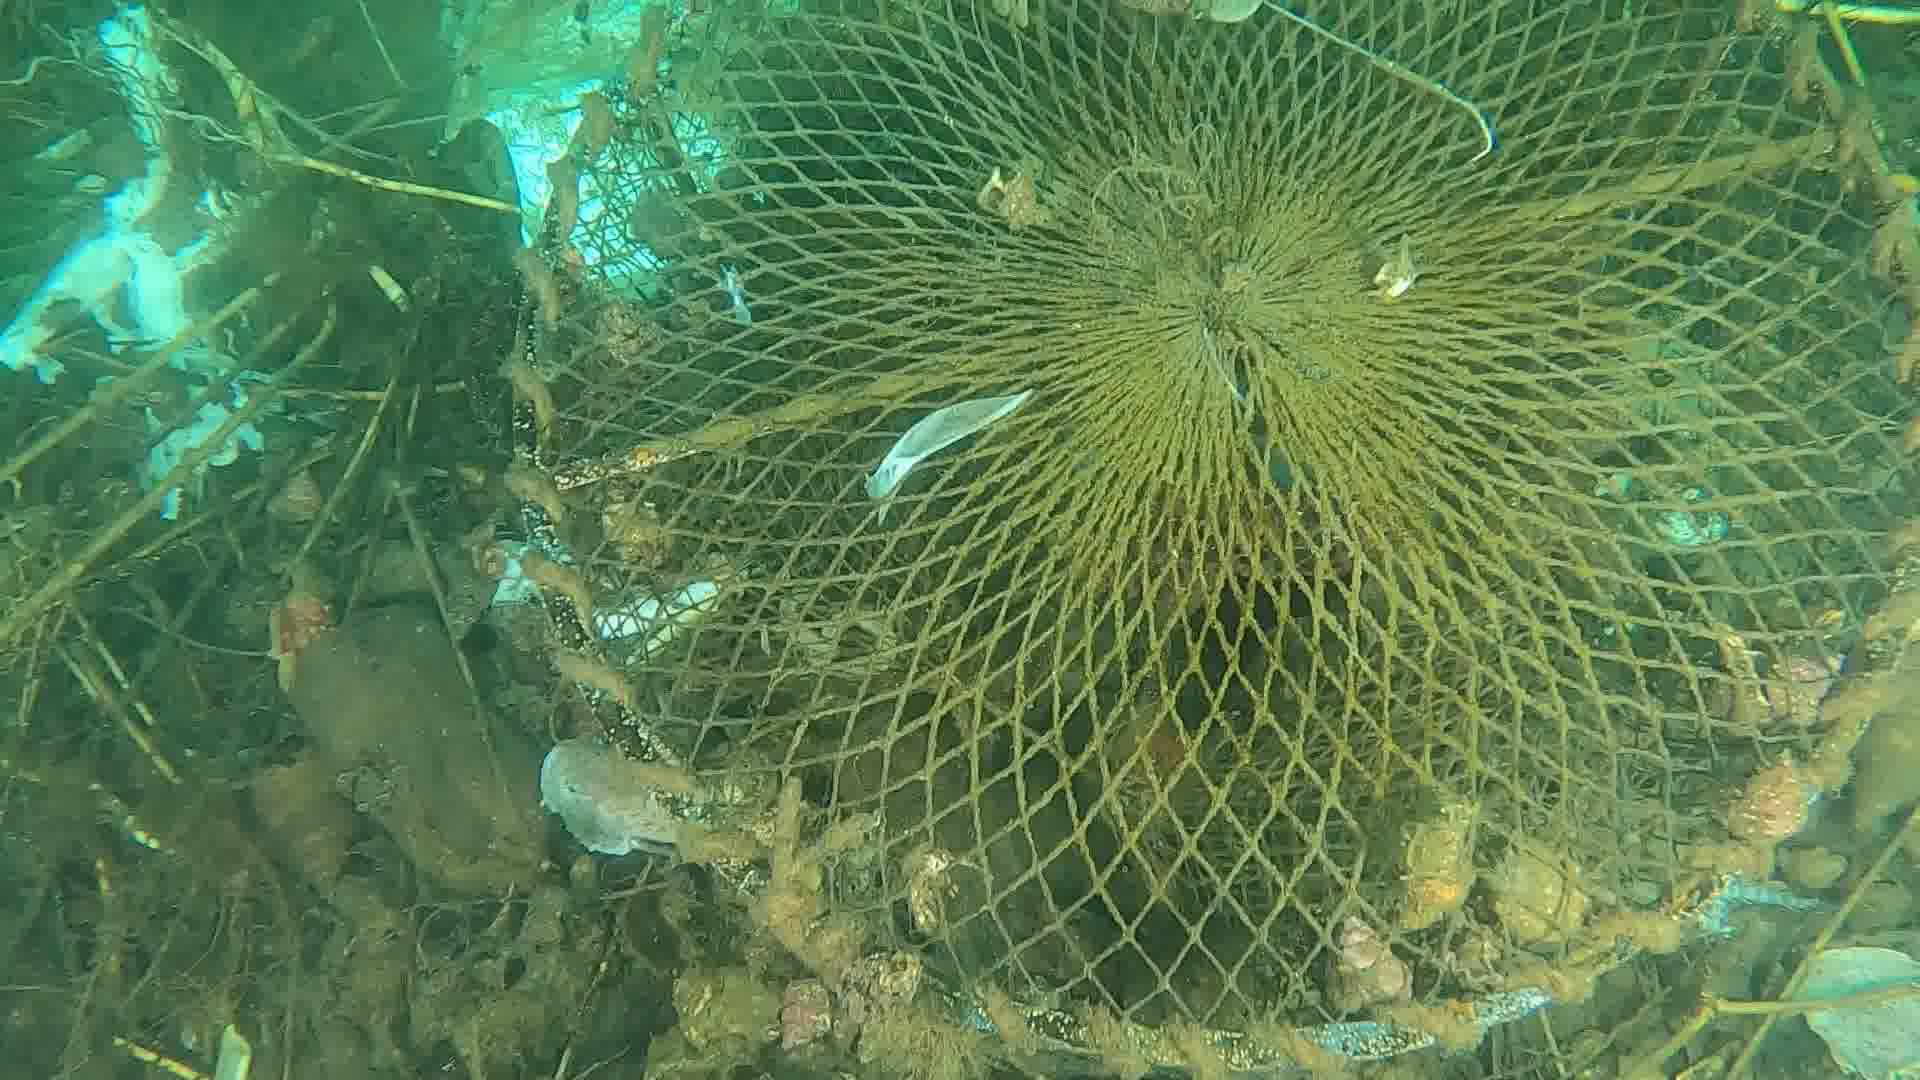circular fish trap: (495, 0, 1920, 1080)
